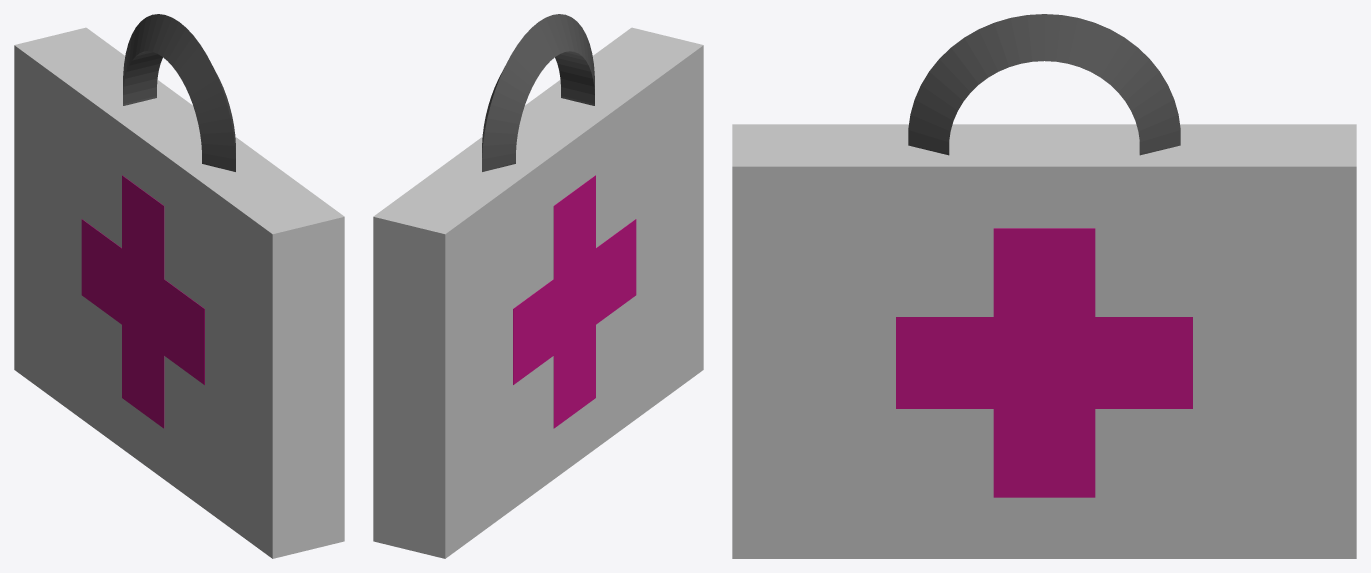
Rendered from HealingItem2.fbx.
3 views of the same model, side by side, from view 1: azimuth 30°, elevation 25°; view 2: azimuth 150°, elevation 25°; view 3: azimuth 270°, elevation 25° (orthographic). The views are drawn at different scales.
Visible parts, largest first — view 1: Cube, Cube.001, Torus; view 2: Cube, Cube.001, Torus; view 3: Cube, Cube.001, Torus.
Part boxes in pixels (x1,y1,x2,y2): Cube: (14, 27, 344, 558); Cube.001: (81, 175, 204, 428); Torus: (123, 14, 235, 171); Cube: (373, 27, 703, 558); Cube.001: (513, 175, 636, 428); Torus: (482, 14, 594, 171); Cube: (732, 124, 1356, 558); Cube.001: (896, 228, 1192, 497); Torus: (908, 14, 1180, 155).
Size of the model in its own units: 52.78 by 300 by 325.
